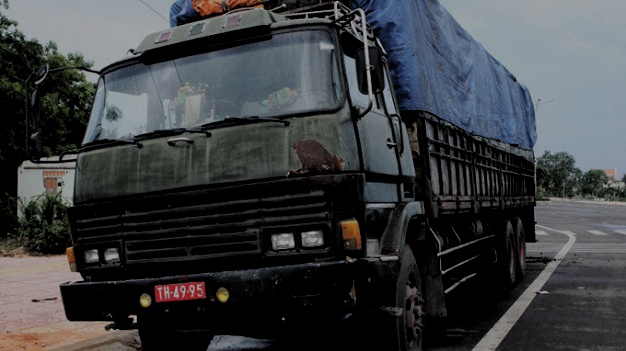plate: (147, 280, 210, 302)
